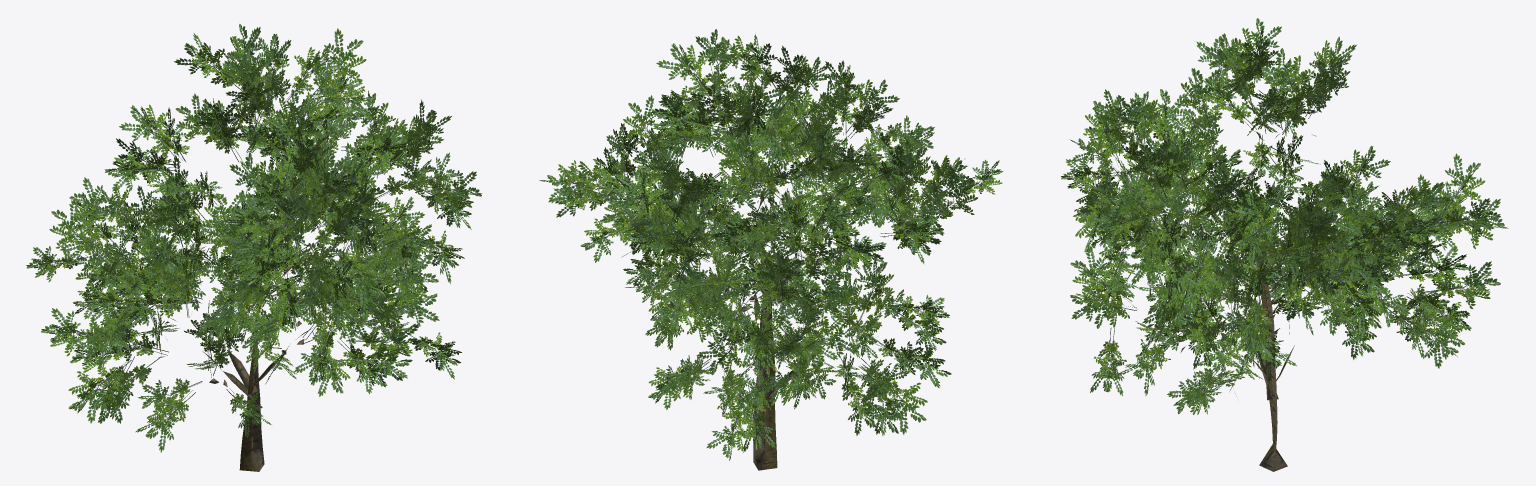
File: tree_00_large.glb
The picture shows the model from 3 angles, left to right: view 1: azimuth 30°, elevation 25°; view 2: azimuth 150°, elevation 25°; view 3: azimuth 270°, elevation 25°; orthographic projection. The views are drawn at different scales.
Parts seen in each view (by area): view 1: tree_00; view 2: tree_00; view 3: tree_00.
Boxes of the visible parts, x1=… form: tree_00: x1=26, y1=24, x2=482, y2=471; tree_00: x1=539, y1=29, x2=1003, y2=470; tree_00: x1=1061, y1=18, x2=1508, y2=471.
Bounding box in the file's own units: 20.89 × 22 × 20.98.
Materials: 2 (2 with a texture image).
